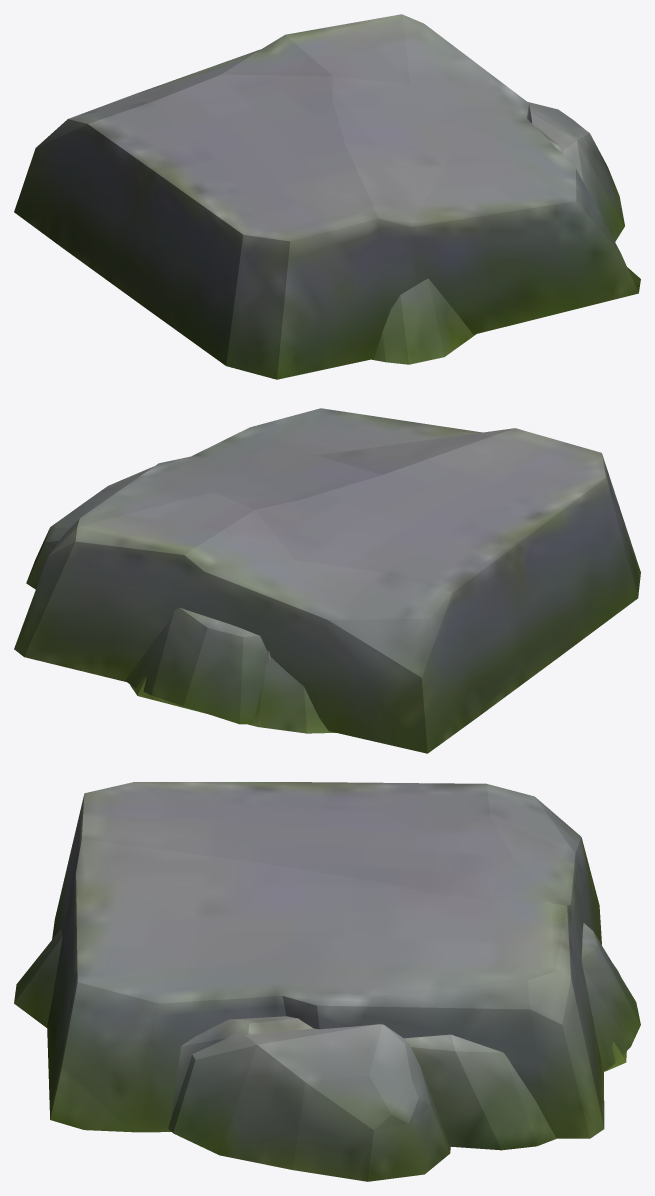
File: MegaPebbles.glb
3 views of the same model, one above another, from view 1: azimuth 30°, elevation 25°; view 2: azimuth 150°, elevation 25°; view 3: azimuth 270°, elevation 25° (orthographic). The views are drawn at different scales.
Visible parts, largest first — view 1: Pebble_Square_1, Pebble_Round_3, Pebble_Round_1; view 2: Pebble_Square_1, Pebble_Round_4, Pebble_Round_2, Pebble_Round_1; view 3: Pebble_Square_1, Pebble_Round_1, Pebble_Round_3, Pebble_Round_4, Pebble_Round_2.
Boxes of the visible parts, x1=… form: Pebble_Square_1: x1=14, y1=14, x2=640, y2=379; Pebble_Round_3: x1=372, y1=278, x2=476, y2=364; Pebble_Round_1: x1=528, y1=102, x2=624, y2=241; Pebble_Square_1: x1=14, y1=408, x2=640, y2=753; Pebble_Round_4: x1=125, y1=607, x2=267, y2=724; Pebble_Round_2: x1=130, y1=657, x2=335, y2=733; Pebble_Round_1: x1=26, y1=466, x2=153, y2=589; Pebble_Square_1: x1=47, y1=782, x2=604, y2=1138; Pebble_Round_1: x1=168, y1=1024, x2=450, y2=1181; Pebble_Round_3: x1=14, y1=929, x2=556, y2=1150; Pebble_Round_4: x1=581, y1=923, x2=640, y2=1071; Pebble_Round_2: x1=169, y1=964, x2=626, y2=1131.
Size of the model in its own units: 0.5136 by 0.1355 by 0.4941.
1 material, 1 textured.
